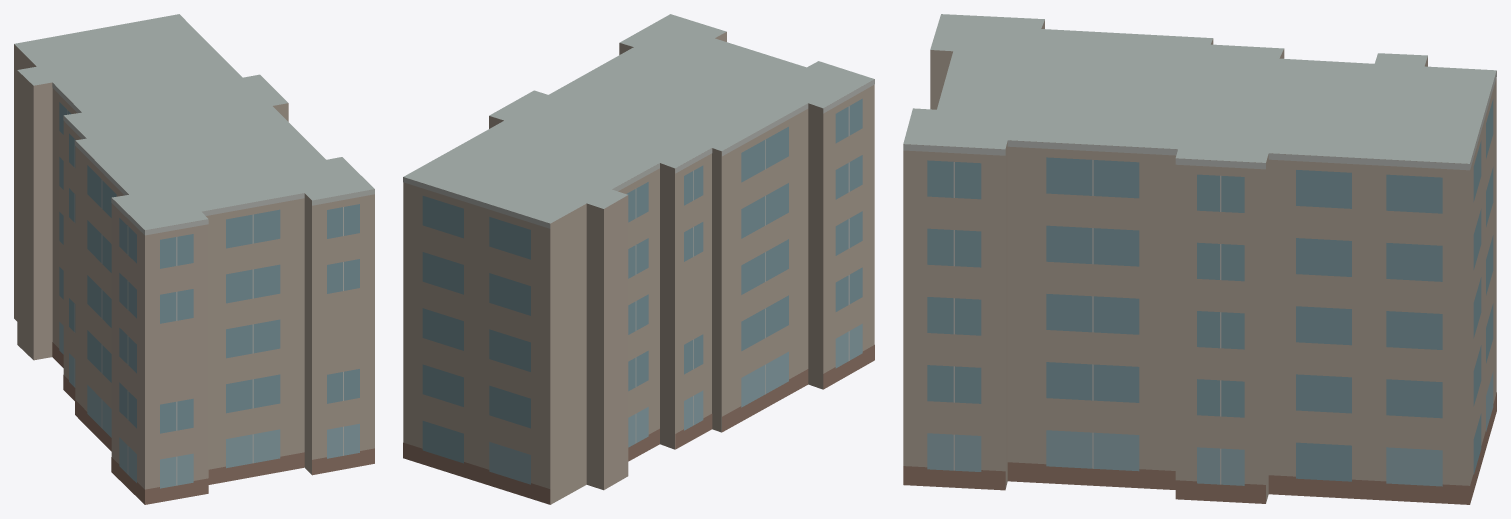
Rendered from survey-upis-33009458.glb.
The picture shows the model from 3 angles, left to right: view 1: azimuth 30°, elevation 25°; view 2: azimuth 150°, elevation 25°; view 3: azimuth 270°, elevation 25°; orthographic projection. The views are drawn at different scales.
Visible parts, largest first — view 1: survey-upis-33009458.tmp; view 2: survey-upis-33009458.tmp; view 3: survey-upis-33009458.tmp.
Part boxes in pixels (bbox=[...]): survey-upis-33009458.tmp: bbox=[14, 14, 374, 504]; survey-upis-33009458.tmp: bbox=[403, 14, 874, 504]; survey-upis-33009458.tmp: bbox=[903, 14, 1496, 504].
Size of the model in its own units: 12.17 by 12.9 by 20.36.
